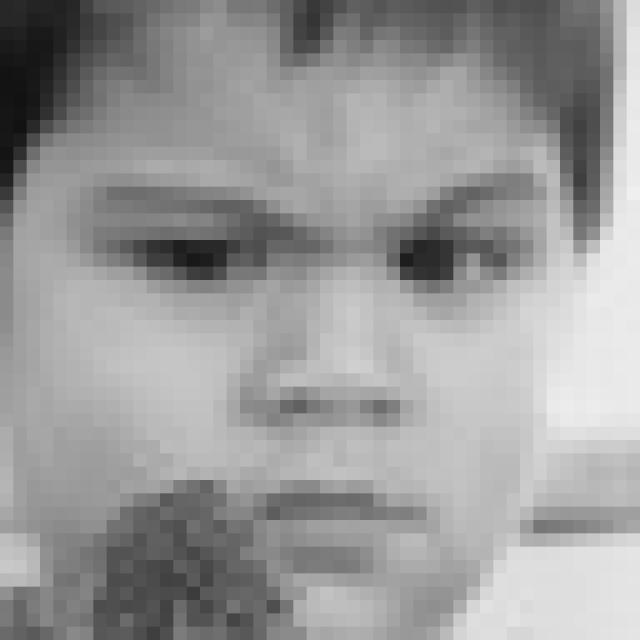disgust: (79, 146, 557, 589)
